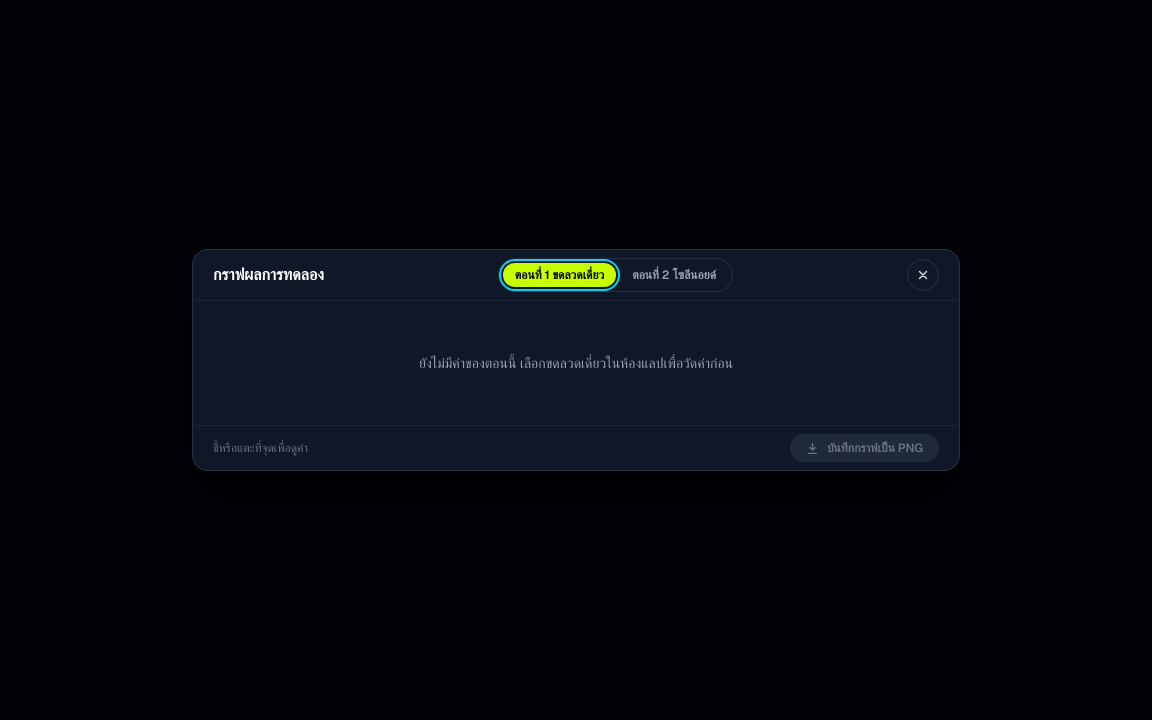
Test case: LabGraphs › says what is missing when a part has no values, and offers nothing to save
Expected: the text "ยังไม่มีค่าของตอนนี้ เลือกขดลวดเดี่ยว" is shown, [419,354,733,372]
Expected: the button "บันทึกกราฟเป็น PNG" is disabled, [790,434,939,462]
Click the tab "ตอนที่ 2 โซลีนอยด์": x=674, y=275 [620,263,728,287]
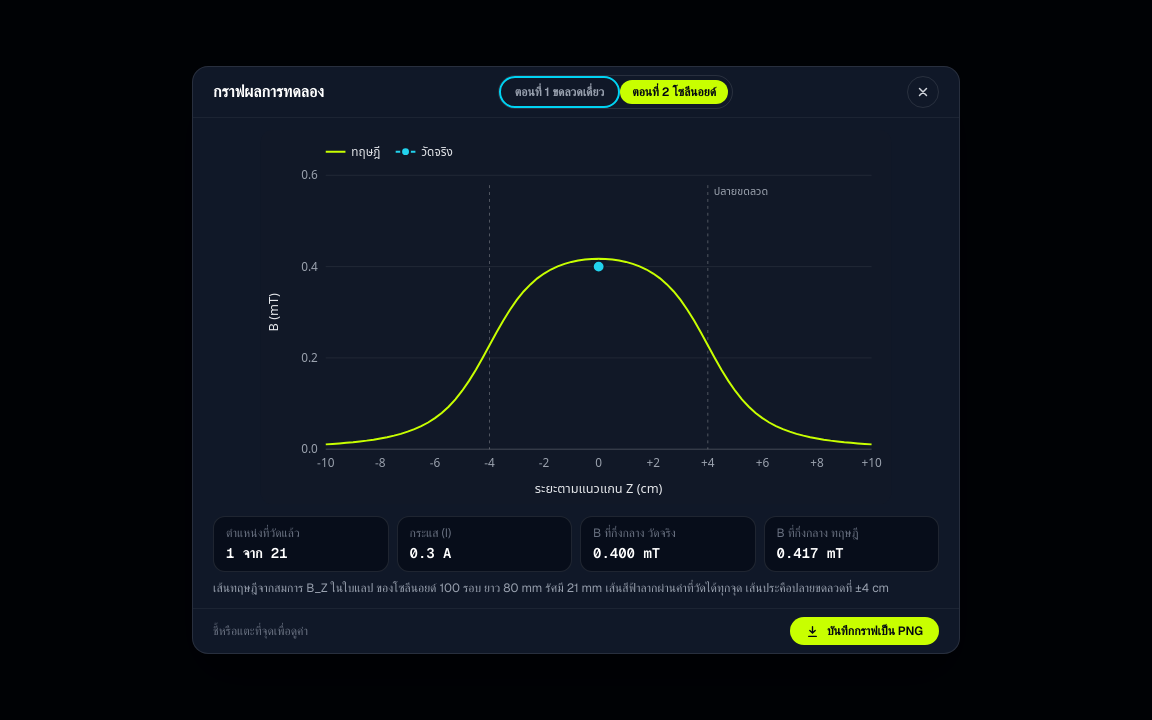
Expected: the button "บันทึกกราฟเป็น PNG" is enabled, [790,617,939,645]
